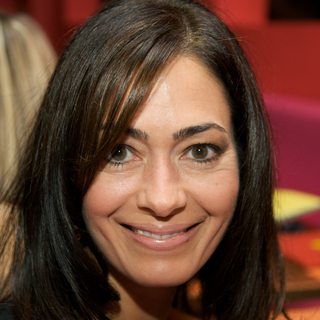eye: (94, 140, 149, 168), (174, 139, 230, 166)
